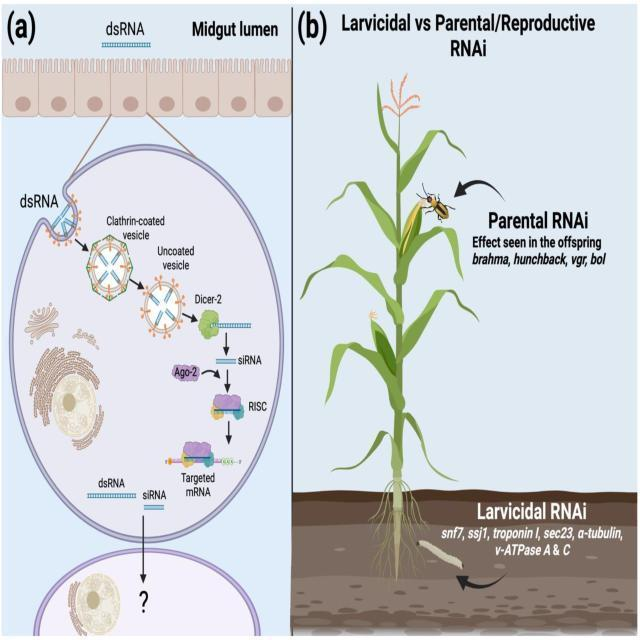trips: (415, 180, 457, 223)
